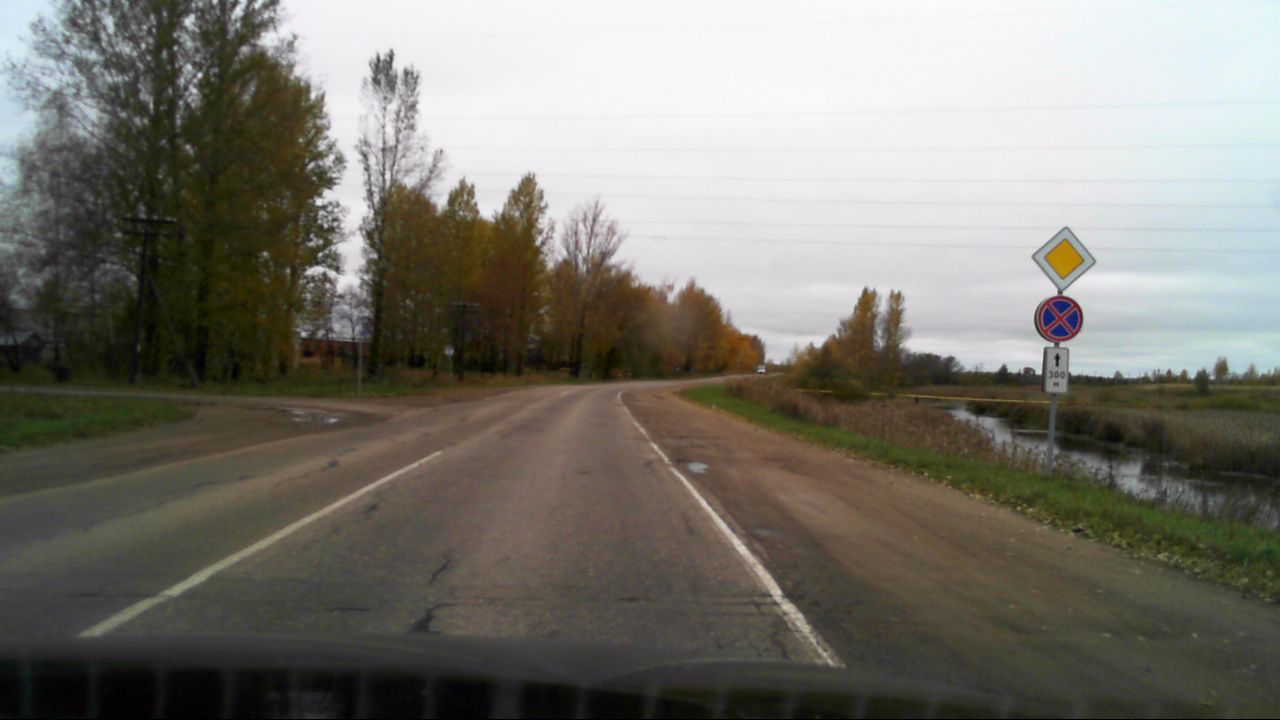No Parking: (1034, 295, 1083, 344)
